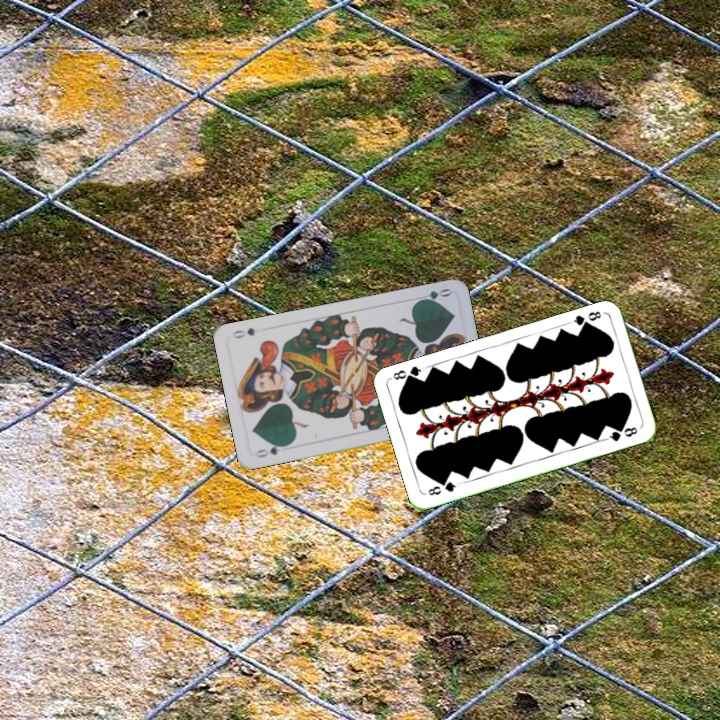G8: (567, 307, 604, 331), (424, 478, 462, 498)
GO: (412, 284, 453, 305), (252, 440, 291, 460)
